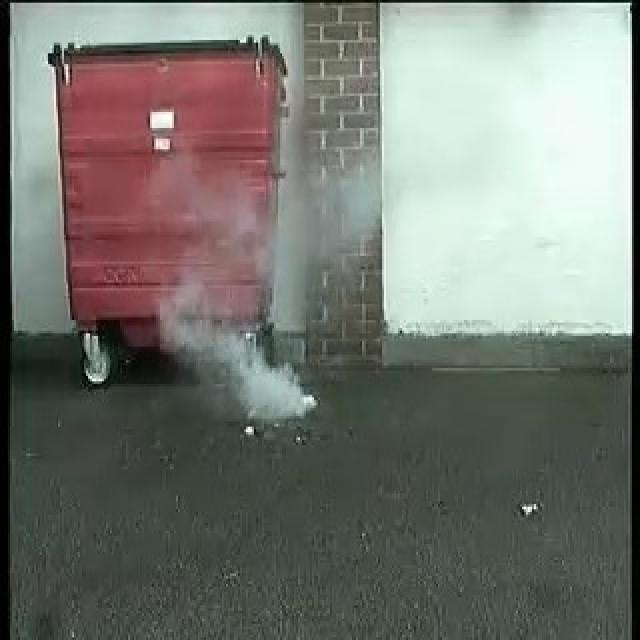Smoke: (165, 294, 318, 418)
